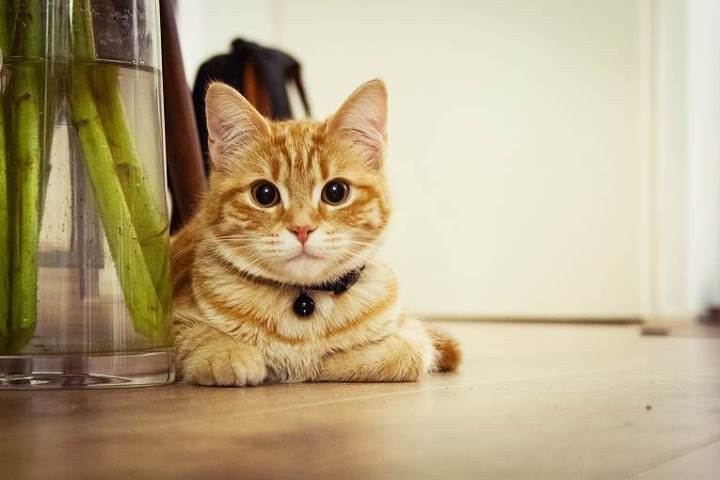cat: (148, 74, 482, 388)
cat-face: (191, 67, 398, 294)
